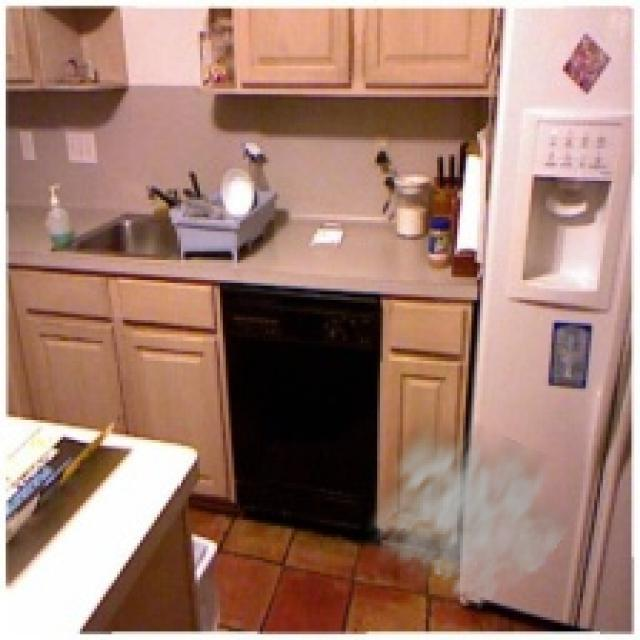Smoke: (360, 399, 577, 612)
